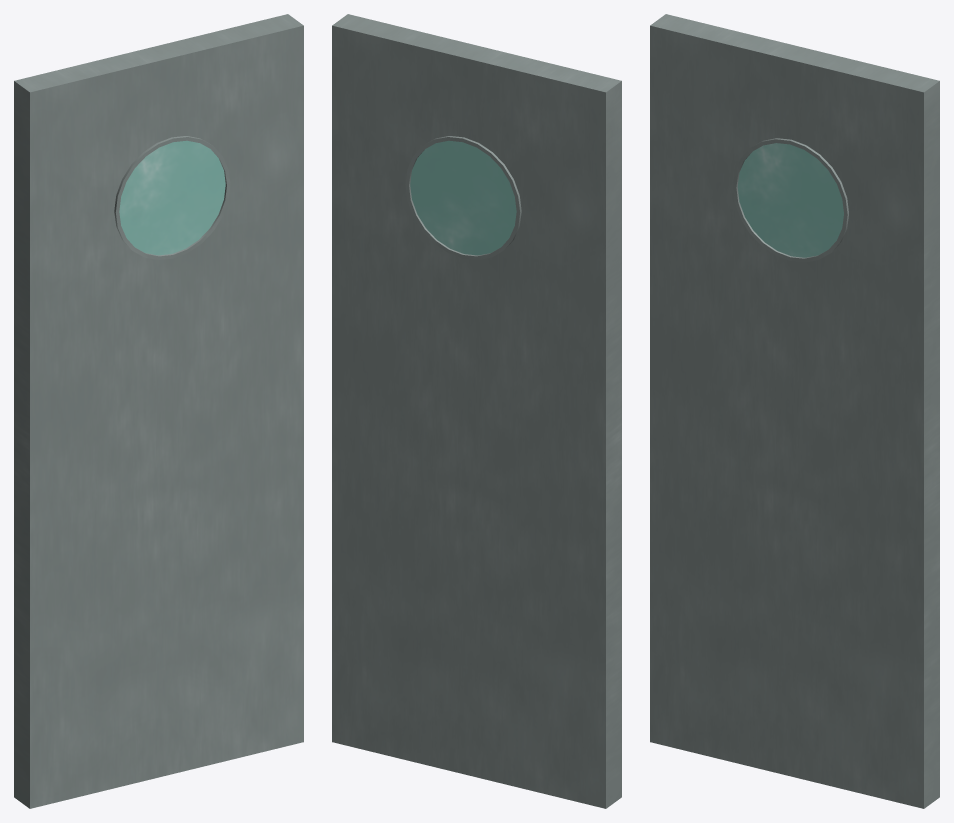
The model's file is SM_KitchenDoor (3).fbx.
The picture shows the model from 3 angles, left to right: view 1: azimuth 30°, elevation 25°; view 2: azimuth 150°, elevation 25°; view 3: azimuth 330°, elevation 25°; orthographic projection.
Visible parts, largest first — view 1: SM_KitchenDoor; view 2: SM_KitchenDoor; view 3: SM_KitchenDoor.
Boxes of the visible parts, x1=… form: SM_KitchenDoor: x1=14, y1=14, x2=303, y2=808; SM_KitchenDoor: x1=332, y1=14, x2=621, y2=808; SM_KitchenDoor: x1=650, y1=14, x2=939, y2=808.
Bounding box in the file's own units: 79.71 × 199 × 9.53.
Materials: 2 (2 with a texture image).
